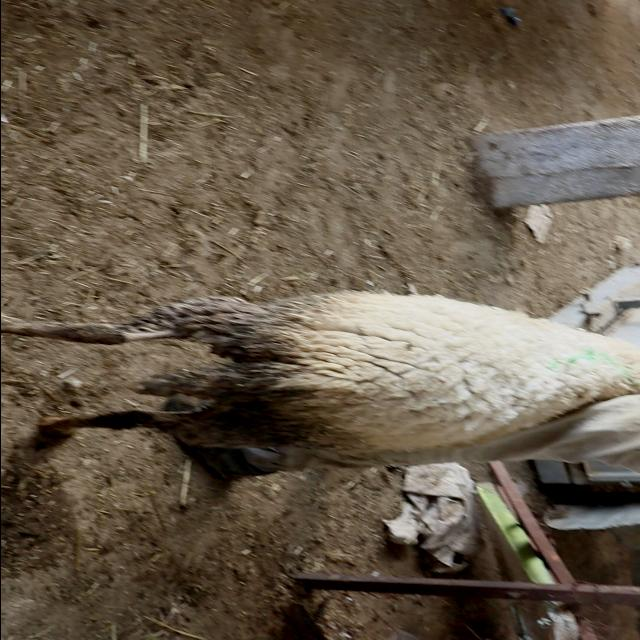Score_4: (1, 291, 640, 461)
